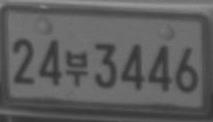2: (13, 38, 35, 84)
3: (93, 43, 117, 88)
4: (120, 43, 146, 90), (148, 45, 173, 92), (38, 40, 62, 86)
6: (176, 47, 198, 93)
부: (66, 50, 88, 86)
